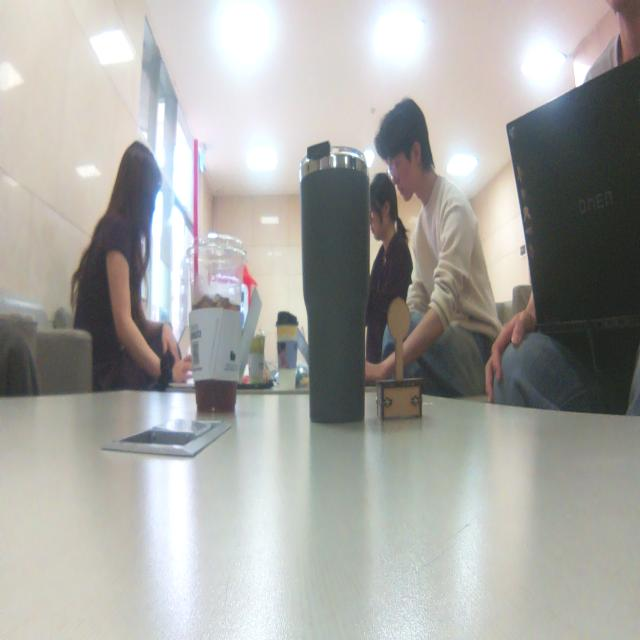target: (375, 297, 423, 421)
